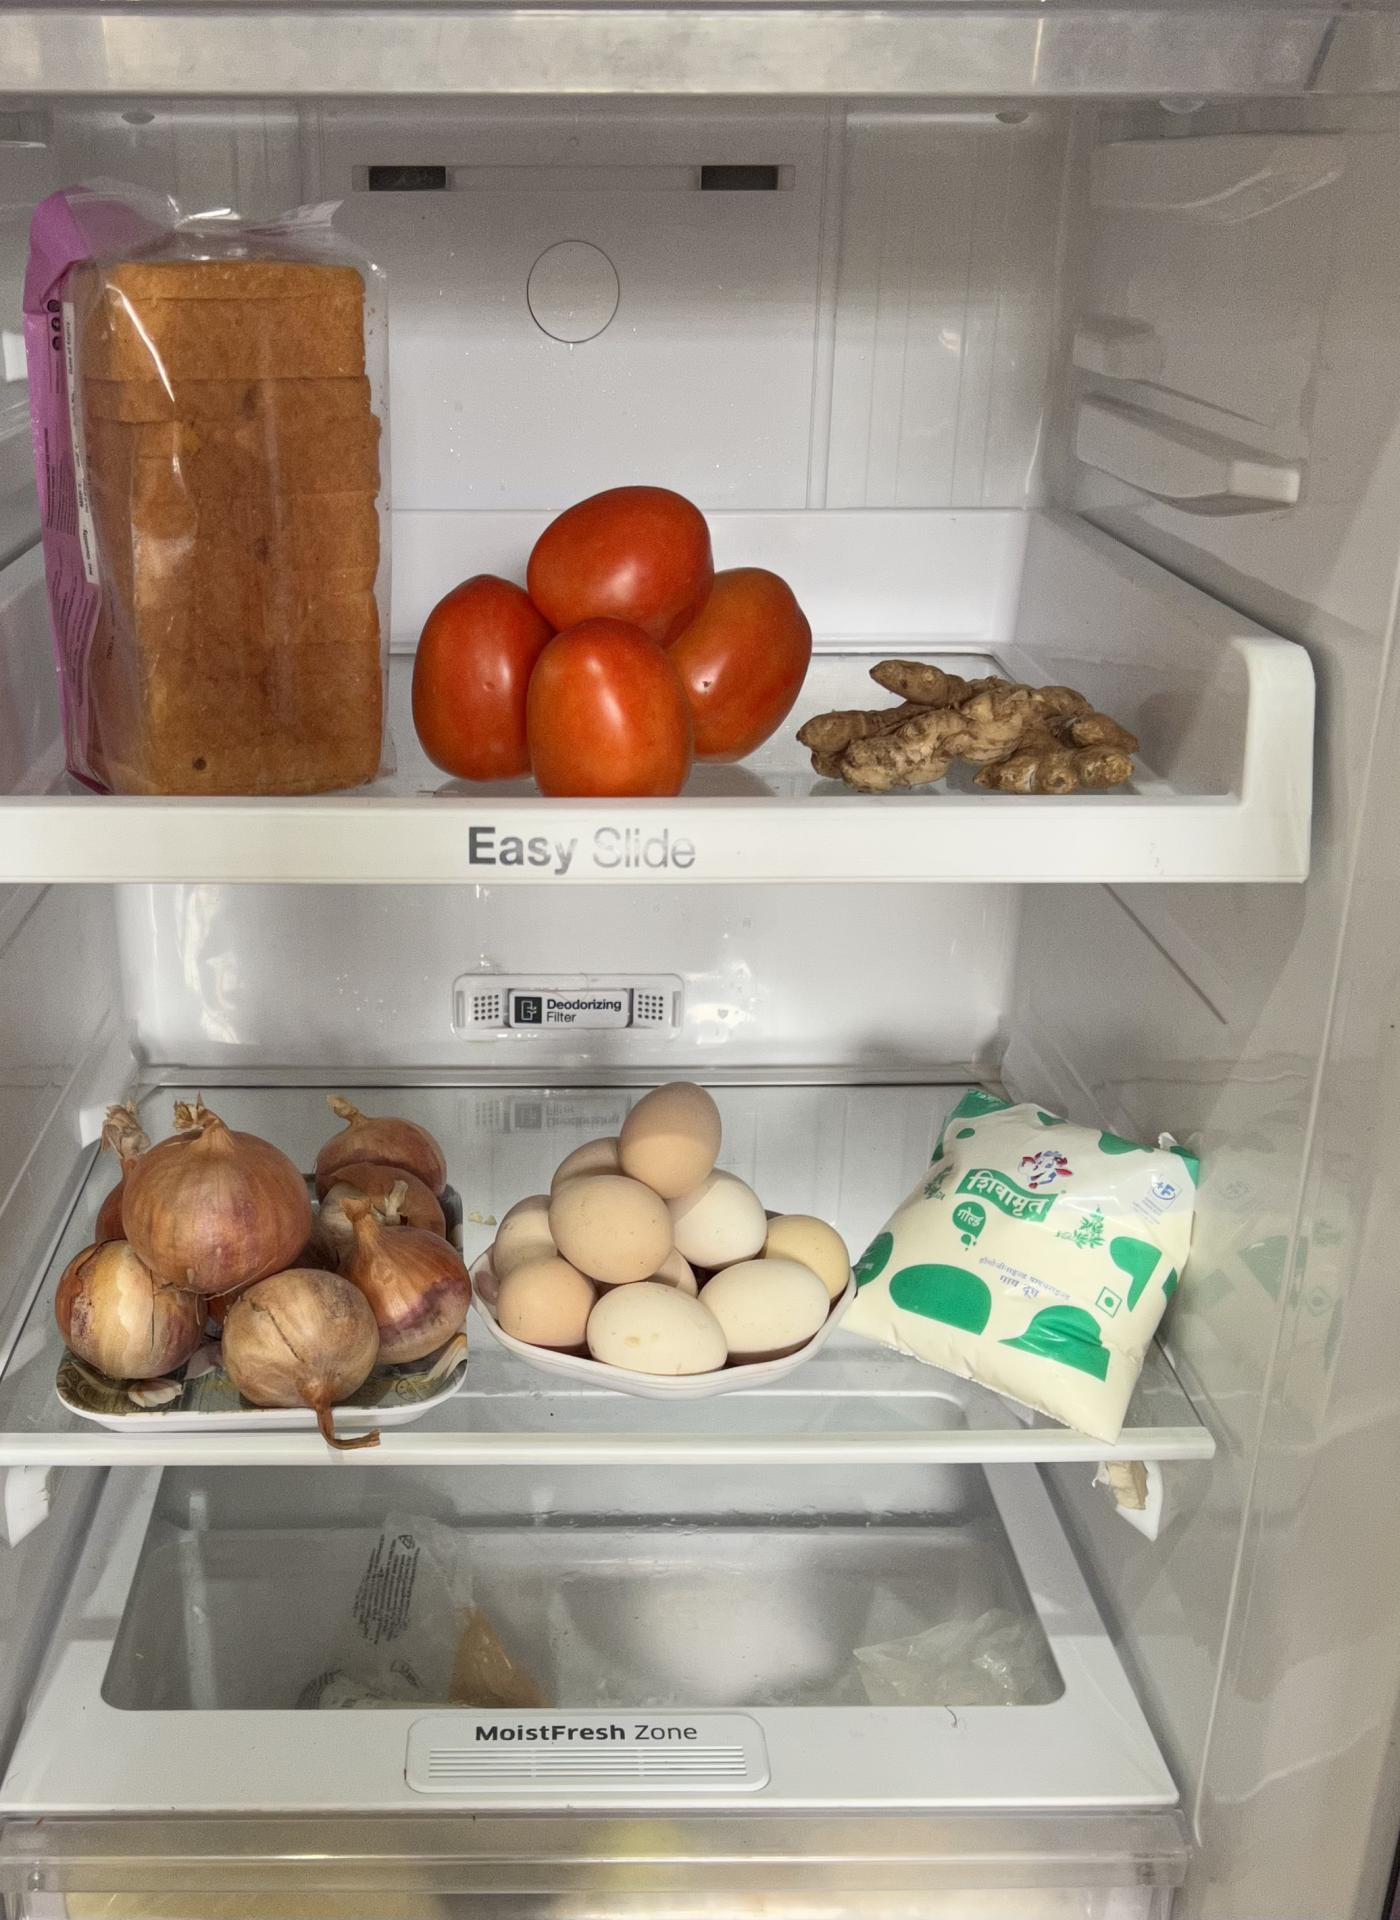bread: (19, 179, 394, 803)
egg: (489, 1082, 848, 1379)
ginger: (824, 651, 1147, 787)
milk: (868, 1079, 1193, 1421)
onion: (55, 1088, 470, 1418)
tomato: (414, 477, 808, 795)
